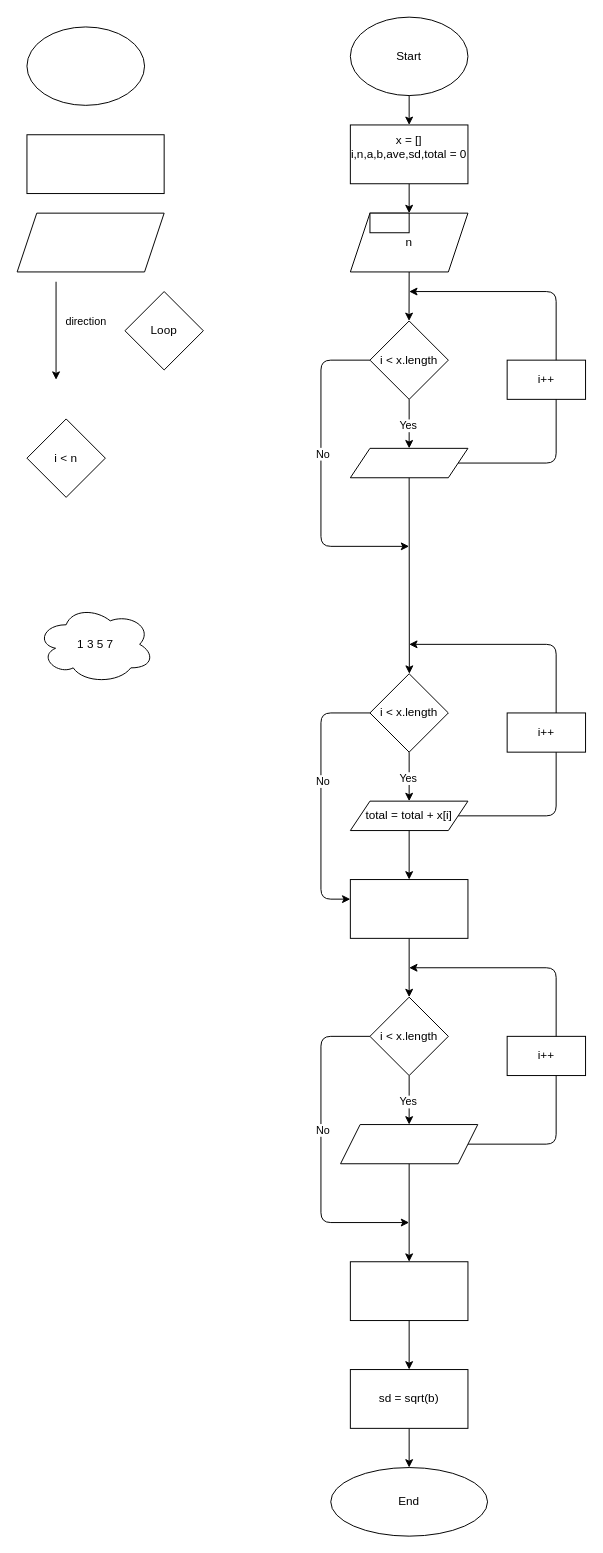
This 603x1553 diagram has some shape labels left out. The shapes that lost their labels are listed below. From the top down, each one's centre as x and y in pixels, then its label:
At (85,65): "Start / End".
At (95,164): "Processe / summations".
At (90,242): "inputs (write) output (read)".
At (389,222): "Write".
At (408,462): "x i".
At (408,908): "ave = total /n".
At (409,1144): "a = a + ( x i - ave ) 2".
At (408,1291): "b = a / n".
